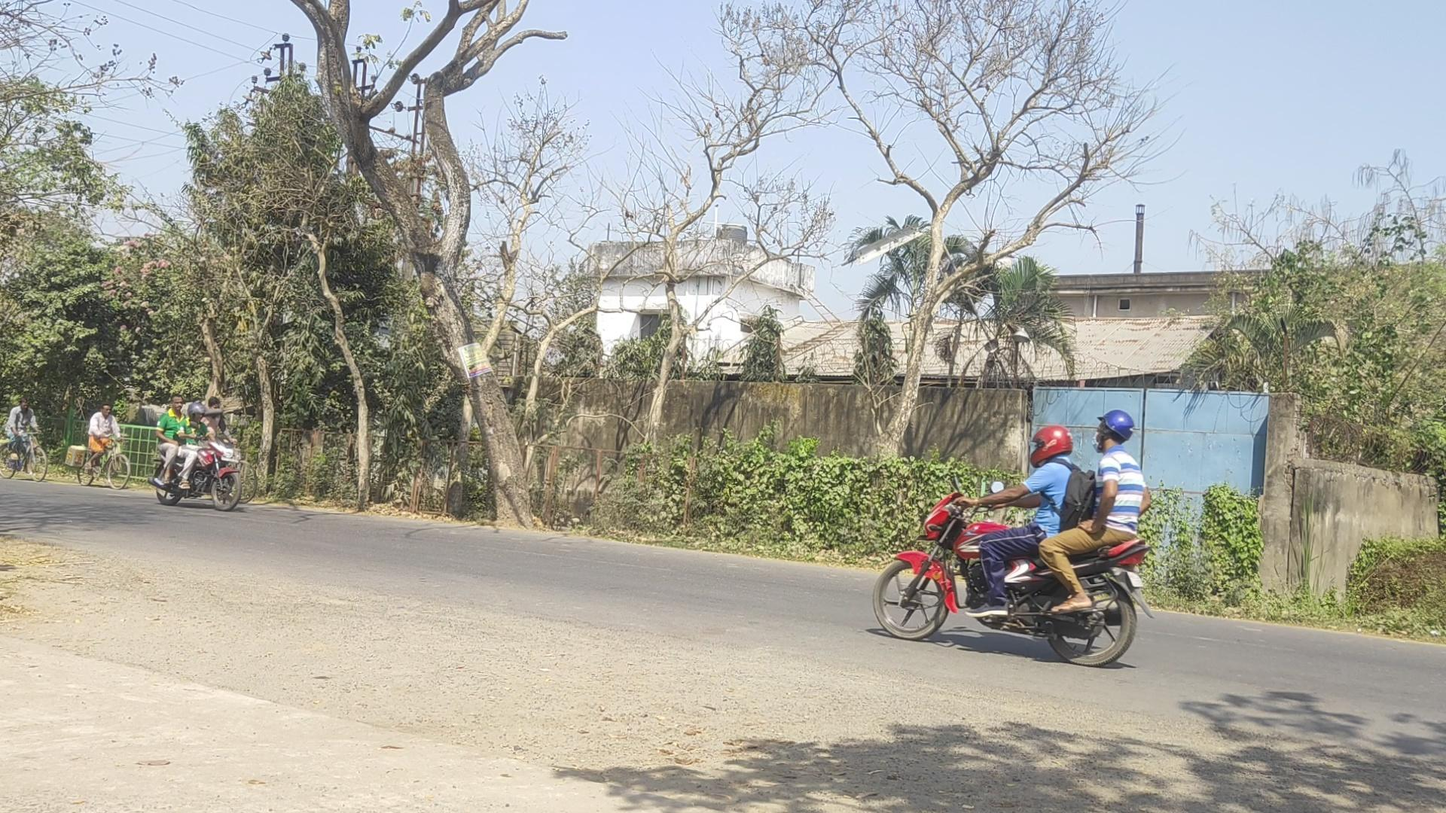bike: (872, 410, 1155, 666), (147, 394, 241, 511), (64, 403, 130, 490), (1, 398, 48, 483)
